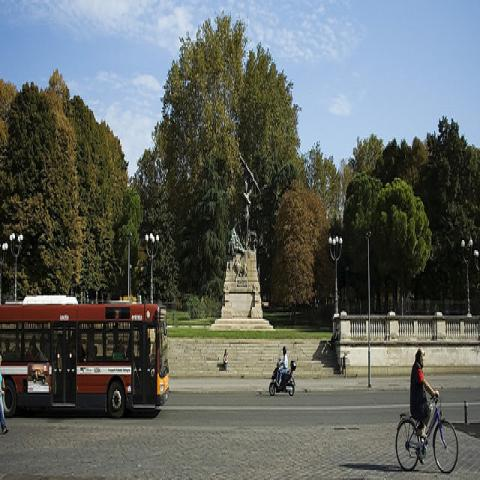bus: (1, 294, 170, 420)
motorcycle: (268, 355, 297, 399)
